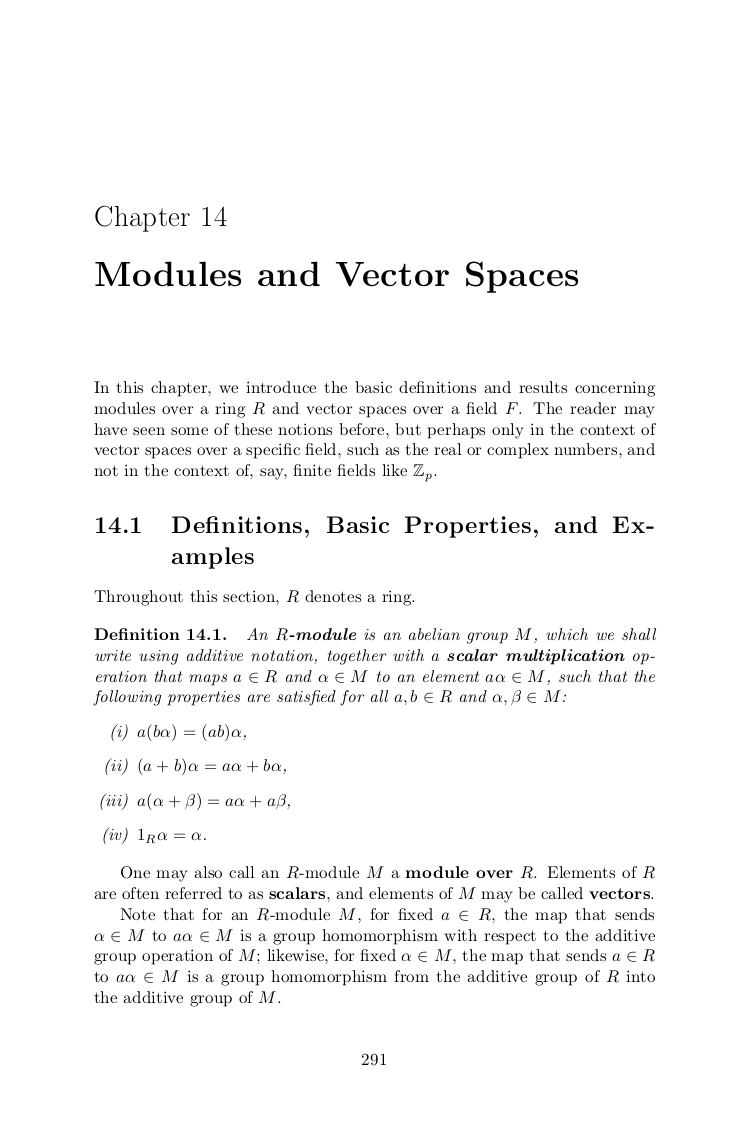formula: (100, 792, 289, 811), (105, 757, 285, 776), (111, 723, 245, 742), (103, 826, 205, 845)
